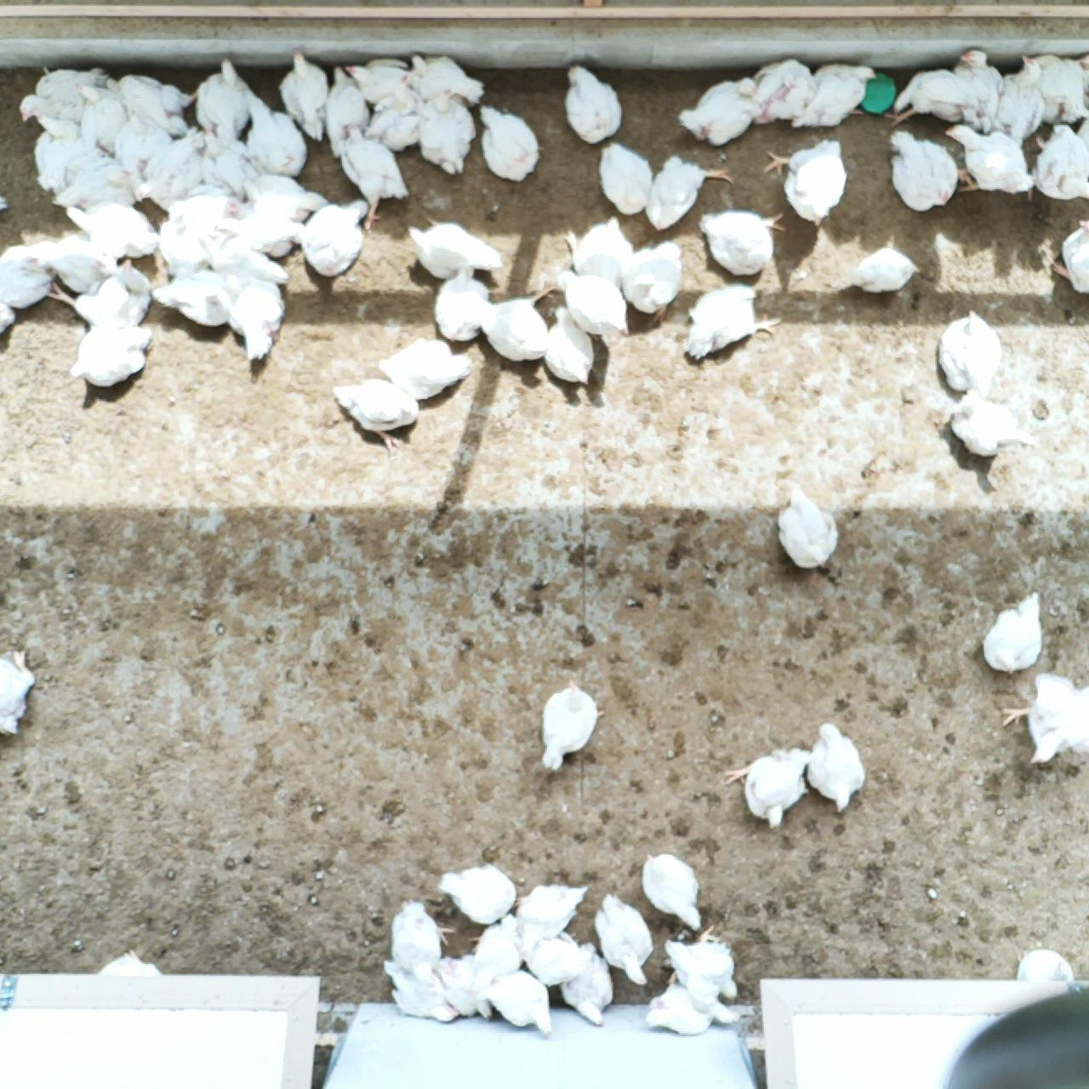chicken: (1001, 671, 1089, 768), (338, 121, 409, 229), (728, 746, 816, 829), (762, 139, 848, 223), (687, 284, 780, 361), (647, 155, 735, 233), (54, 261, 155, 328), (66, 201, 167, 265), (946, 121, 1034, 194), (161, 194, 237, 278), (334, 378, 419, 453), (108, 70, 206, 135), (403, 218, 503, 281), (936, 308, 1008, 395), (477, 282, 554, 362), (948, 388, 1036, 457), (24, 64, 114, 131), (133, 129, 212, 205), (378, 339, 473, 402), (363, 77, 436, 157), (681, 77, 761, 148), (700, 209, 784, 276), (664, 924, 740, 998), (204, 223, 291, 287), (792, 62, 876, 128), (808, 720, 868, 812), (890, 127, 958, 208), (201, 130, 278, 201), (883, 68, 975, 127), (518, 882, 594, 953), (595, 894, 654, 985), (649, 975, 740, 1034), (33, 131, 121, 192), (227, 194, 308, 260), (56, 157, 148, 215), (249, 94, 309, 182), (778, 486, 840, 571), (557, 268, 633, 337), (443, 859, 520, 927), (981, 590, 1044, 673), (74, 82, 141, 160), (539, 684, 597, 774), (151, 272, 244, 328), (641, 855, 705, 935), (565, 216, 634, 290), (306, 198, 369, 279), (623, 240, 684, 323), (195, 59, 255, 143), (383, 957, 460, 1021), (71, 327, 153, 387), (281, 53, 336, 141), (392, 901, 452, 981), (44, 232, 121, 294), (996, 54, 1049, 143), (480, 104, 541, 181), (564, 64, 623, 143), (751, 58, 819, 126), (1030, 125, 1089, 203), (488, 969, 554, 1038), (467, 915, 526, 992), (344, 51, 425, 107), (116, 107, 174, 184), (324, 63, 372, 156), (0, 237, 63, 307), (423, 94, 477, 175), (953, 46, 1004, 131), (563, 947, 617, 1027), (433, 269, 492, 342), (234, 278, 287, 359), (524, 930, 597, 988), (439, 956, 507, 1018), (597, 143, 654, 216), (409, 52, 486, 106), (1030, 51, 1086, 123), (249, 171, 333, 218), (547, 313, 597, 390), (854, 244, 919, 293), (0, 649, 38, 732), (1052, 215, 1089, 294), (98, 949, 171, 978), (1080, 47, 1089, 120), (0, 304, 16, 338), (0, 194, 9, 211)
